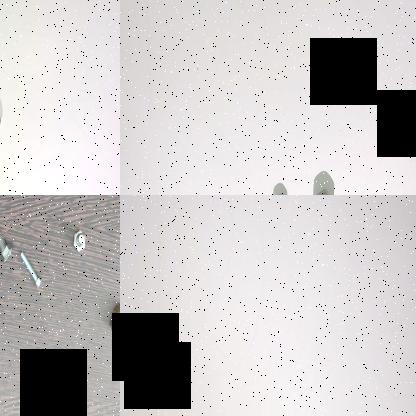Bolts: (18, 246, 44, 294), (40, 386, 72, 416), (68, 219, 88, 254), (0, 222, 14, 266)
NUTS: (270, 188, 290, 195)
